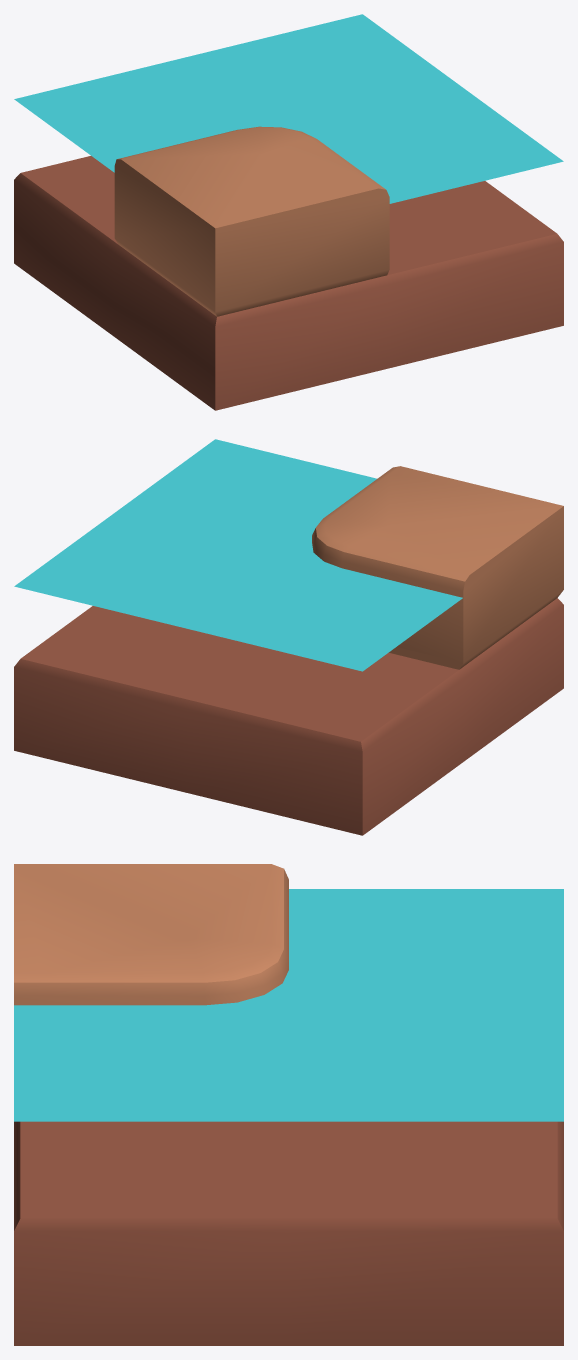
File: square_rock_waterOuterCorner_noSides.glb
3 renders of one model, top to bottom at view 1: azimuth 30°, elevation 25°; view 2: azimuth 150°, elevation 25°; view 3: azimuth 270°, elevation 25°, orthographic. The views are drawn at different scales.
Parts seen in each view (by area): view 1: square_rock_waterOuterCorner_noSides; view 2: square_rock_waterOuterCorner_noSides; view 3: square_rock_waterOuterCorner_noSides.
Part boxes in pixels (x1,y1,x2,y2): square_rock_waterOuterCorner_noSides: [14, 14, 563, 410]; square_rock_waterOuterCorner_noSides: [14, 439, 563, 835]; square_rock_waterOuterCorner_noSides: [14, 864, 563, 1345].
Size of the model in its own units: 2 by 1 by 2.
